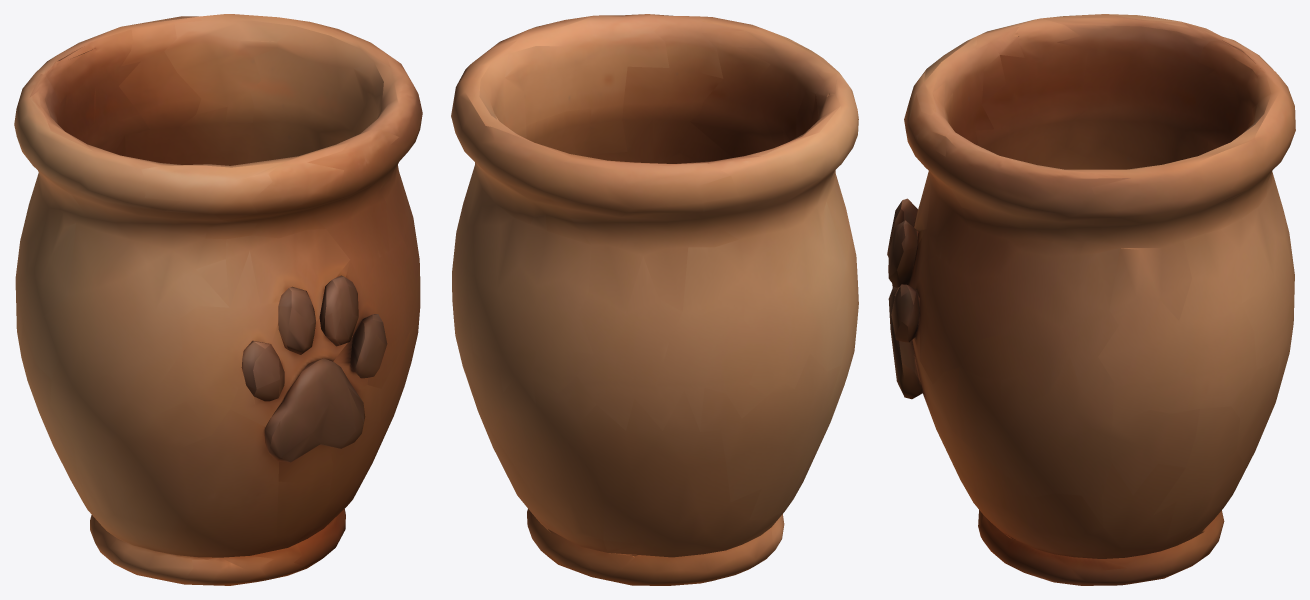
The model's file is empty_pot.glb.
3 renders of one model, left to right at view 1: azimuth 30°, elevation 25°; view 2: azimuth 150°, elevation 25°; view 3: azimuth 270°, elevation 25°, orthographic.
Parts seen in each view (by area): view 1: tripo_node_3fc498d4-30ec-4cba-9e89-6d51cefb8d72; view 2: tripo_node_3fc498d4-30ec-4cba-9e89-6d51cefb8d72; view 3: tripo_node_3fc498d4-30ec-4cba-9e89-6d51cefb8d72.
Part boxes in pixels (left/top/right/bottom): tripo_node_3fc498d4-30ec-4cba-9e89-6d51cefb8d72: left=14, top=14, right=422, bottom=585; tripo_node_3fc498d4-30ec-4cba-9e89-6d51cefb8d72: left=451, top=14, right=858, bottom=585; tripo_node_3fc498d4-30ec-4cba-9e89-6d51cefb8d72: left=887, top=14, right=1295, bottom=585.
Bounding box in the file's own units: 0.4003 × 0.4804 × 0.4004.
Materials: 1 (1 with a texture image).
